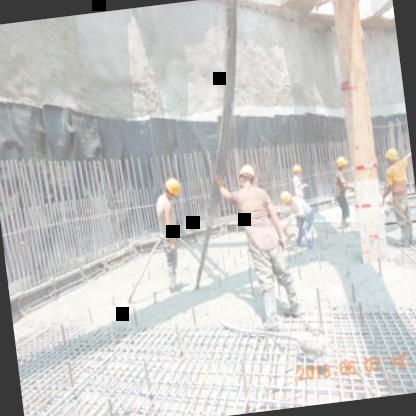helmet: (159, 174, 184, 204), (235, 162, 259, 190), (381, 144, 402, 167), (278, 187, 297, 208), (333, 152, 350, 174), (289, 163, 304, 180)
